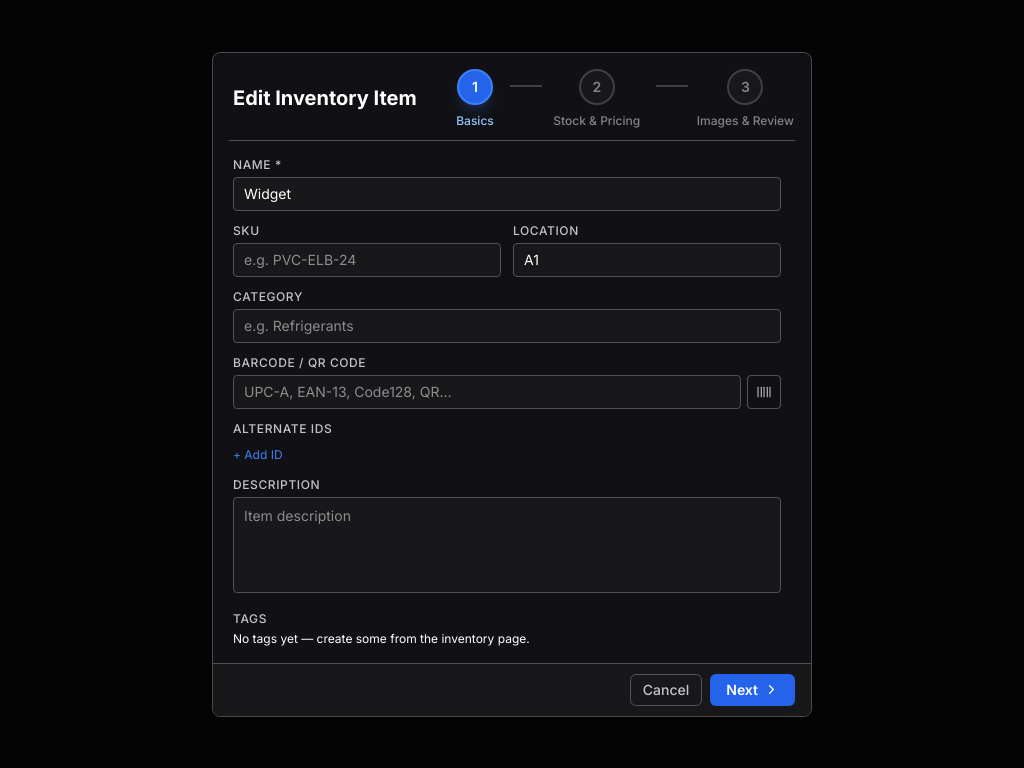
Test case: unit of measure › pre-selects a legacy aliased unit by its canonical code
The width and height of the screenshot is (1024, 768).
Click the button "Next" at (753, 690), box x1=710 y1=674 x2=795 y2=706
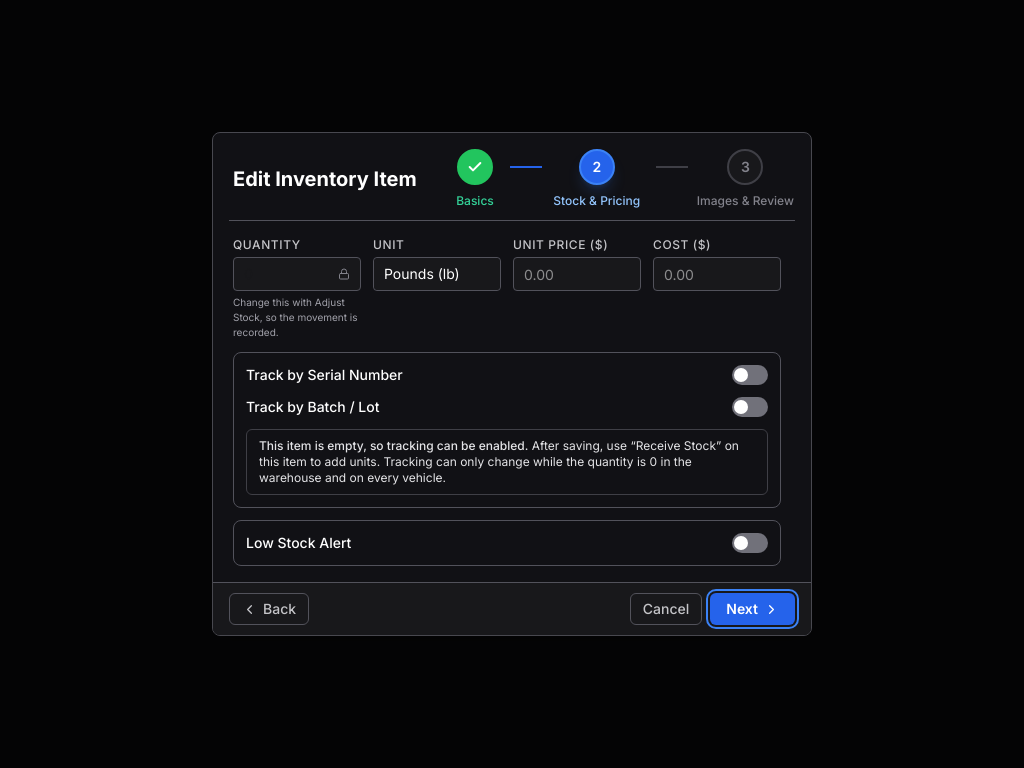
Check: the dropdown named "Unit of measure" shows "Pounds (lb)", box x1=374 y1=258 x2=500 y2=290
